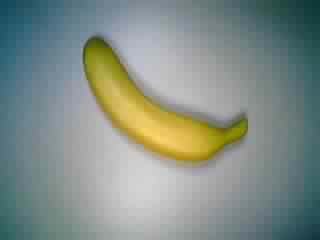banana: (81, 34, 249, 166)
